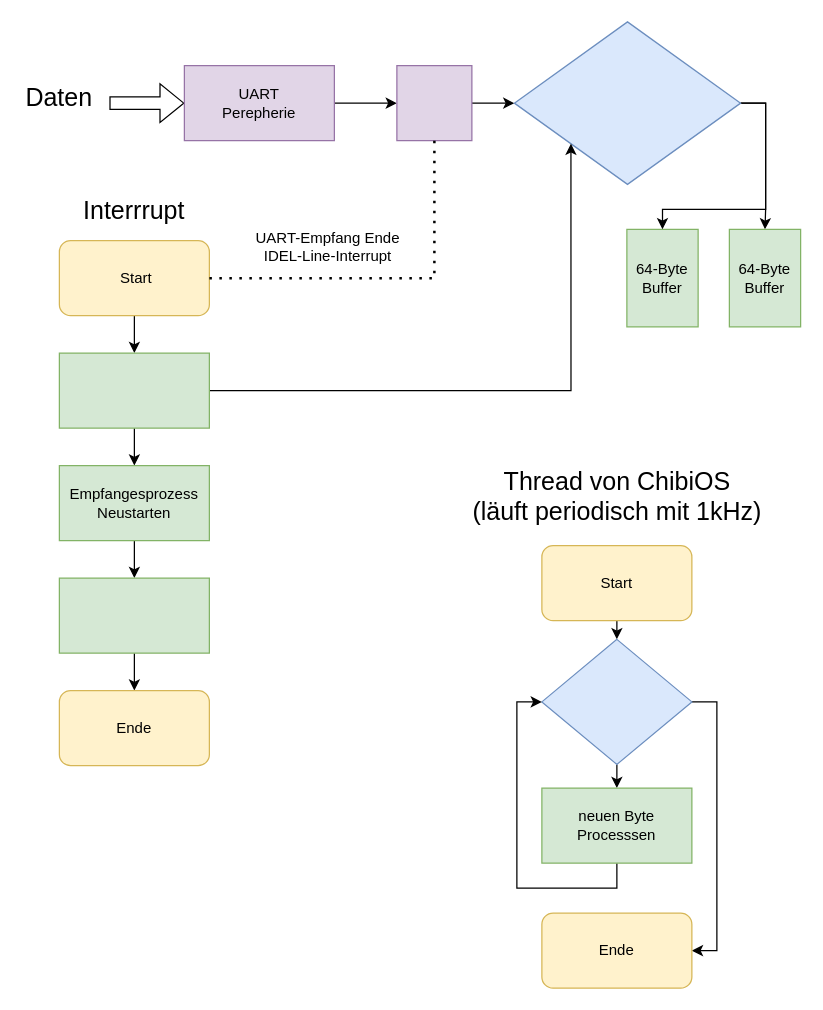
The diagram is 823 pixels wide and 1010 high, and some of its shapes have lost their labels. The shapes that lost their labels are listed below. From the top down, each one's centre as x and y in pixels, then its label:
At [434,102]: "DMA".
At [627,102]: "Double-Buffering System (Welcher Buffer)".
At [133,390]: "Buffer wechseln".
At [133,615]: "Empfangene Daten in Ringbuffer Kopieren".
At [616,701]: "noch Bytes im Ringbuffer".
